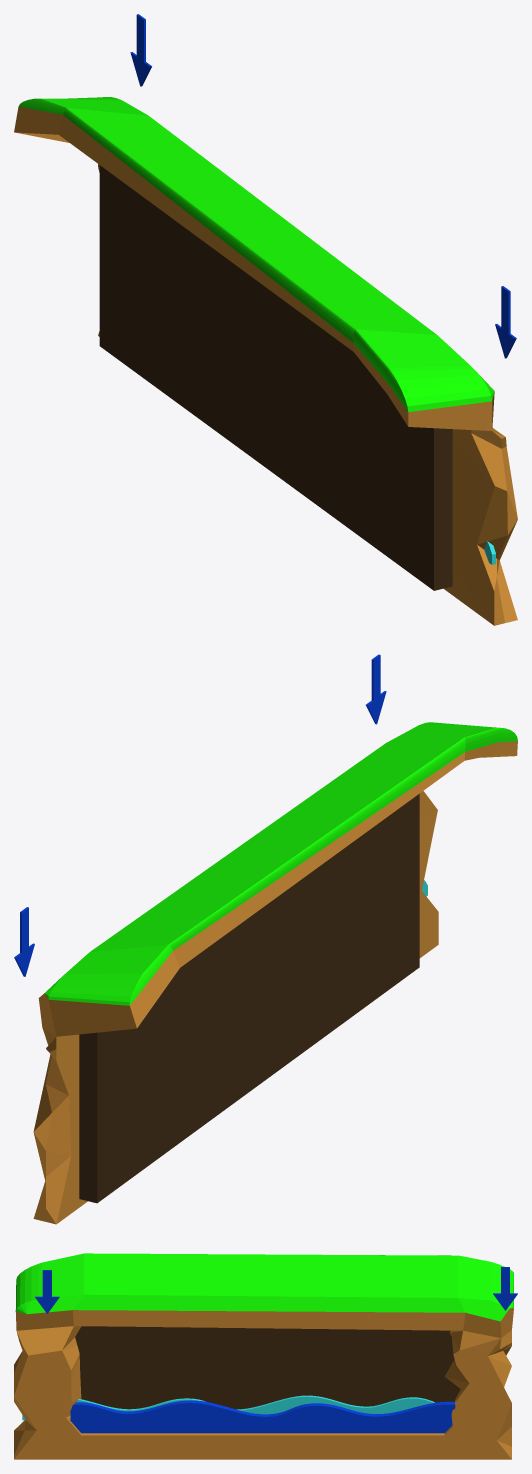
File: infiltracion.glb
The picture shows the model from 3 angles, top to bottom: view 1: azimuth 30°, elevation 25°; view 2: azimuth 150°, elevation 25°; view 3: azimuth 270°, elevation 25°; orthographic projection. The views are drawn at different scales.
Parts seen in each view (by area): view 1: Cubo, marco, Plano.001, Plano.002; view 2: Cubo, marco, Plano.001, Plano.002; view 3: marco, Cubo, agua, agua2, Plano.001, Plano.002.
Part boxes in pixels (left/top/right/bottom): Cubo: left=99, top=165, right=452, bottom=590; marco: left=14, top=97, right=517, bottom=625; Plano.001: left=495, top=286, right=516, bottom=358; Plano.002: left=130, top=14, right=151, bottom=86; Cubo: left=79, top=794, right=419, bottom=1203; marco: left=33, top=722, right=517, bottom=1224; Plano.001: left=366, top=654, right=386, bottom=724; Plano.002: left=14, top=907, right=34, bottom=976; marco: left=14, top=1253, right=513, bottom=1459; Cubo: left=75, top=1326, right=460, bottom=1409; agua: left=70, top=1400, right=455, bottom=1433; agua2: left=22, top=1395, right=434, bottom=1420; Plano.001: left=35, top=1270, right=59, bottom=1313; Plano.002: left=493, top=1267, right=517, bottom=1310.
Bounding box in the file's own units: 0.5764 × 1.4 × 3.24.
